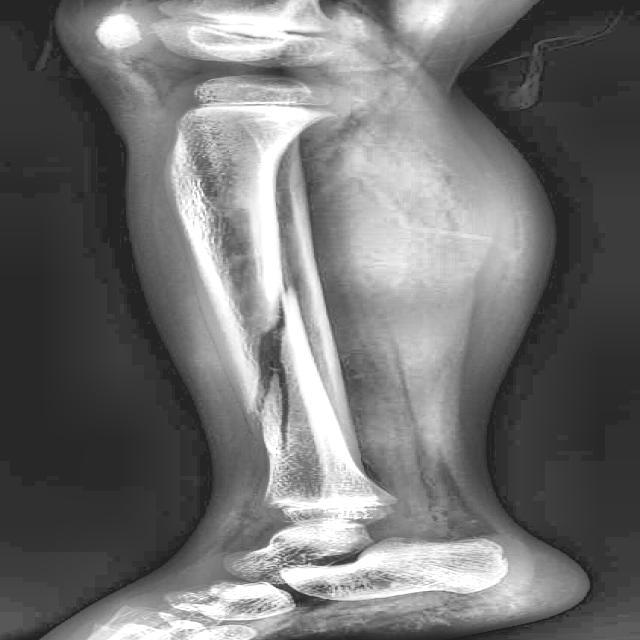fracture: (232, 294, 306, 456)
